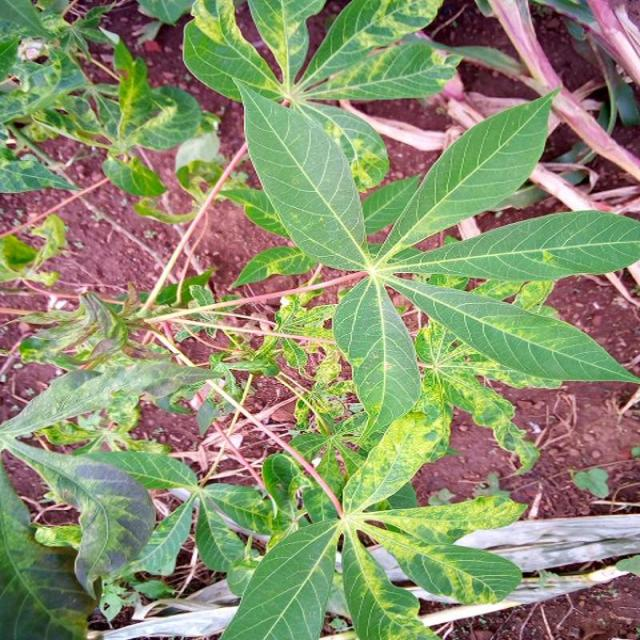cassava leaf: (374, 84, 562, 262), (235, 76, 368, 272), (331, 273, 422, 447)
